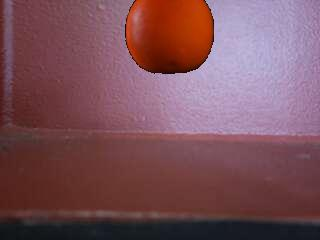Orange: (124, 0, 213, 75)
